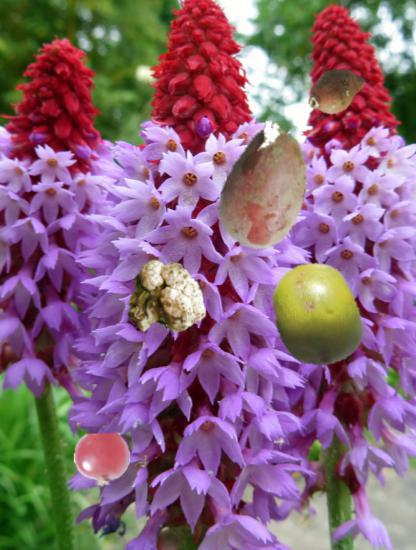Cauliflower: (123, 260, 206, 343)
Pomelo: (264, 260, 372, 368)
Potato: (200, 121, 332, 253), (305, 59, 369, 123)
Redcurrant: (74, 432, 130, 488)
